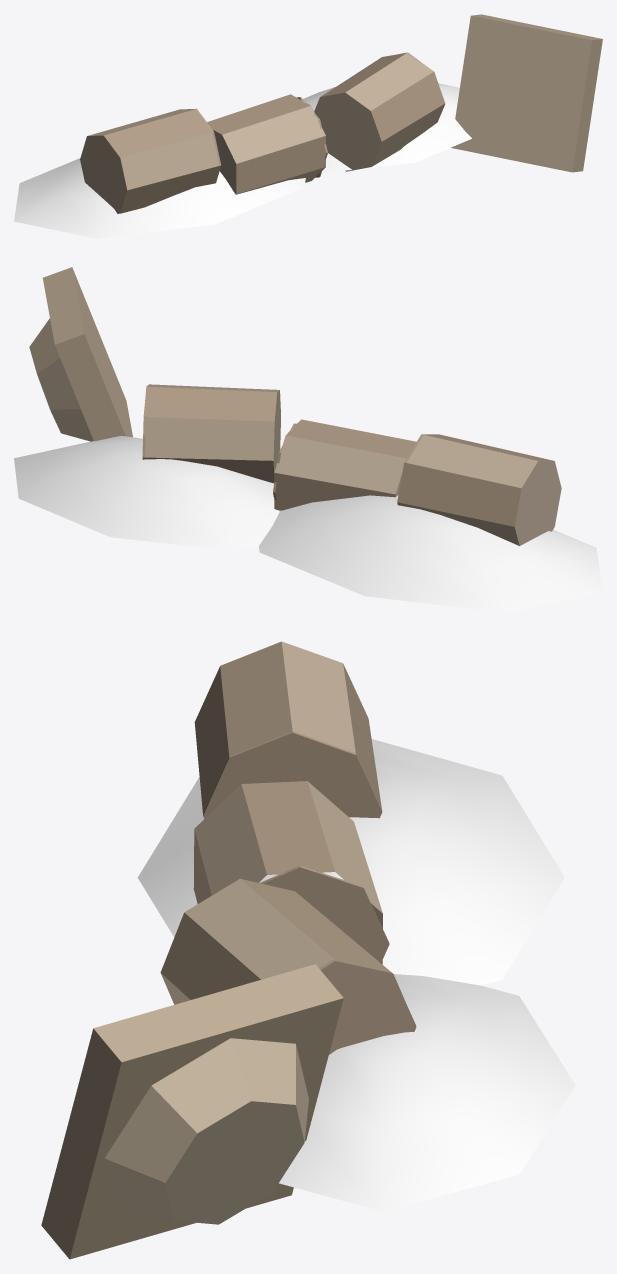
The model's file is ruinas_columna_c_ligero.glb.
3 views of the same model, one above another, from view 1: azimuth 30°, elevation 25°; view 2: azimuth 150°, elevation 25°; view 3: azimuth 270°, elevation 25° (orthographic). The views are drawn at different scales.
Visible parts, largest first — view 1: ruinas_columna_c, ruinas_columna_c_arena; view 2: ruinas_columna_c_arena, ruinas_columna_c; view 3: ruinas_columna_c, ruinas_columna_c_arena.
Boxes of the visible parts, <box> form: ruinas_columna_c: <box>80,14,602,213</box>; ruinas_columna_c_arena: <box>14,83,471,238</box>; ruinas_columna_c_arena: <box>14,435,602,612</box>; ruinas_columna_c: <box>29,267,561,545</box>; ruinas_columna_c: <box>41,641,416,1259</box>; ruinas_columna_c_arena: <box>137,739,575,1211</box>.
Size of the model in its own units: 5.74 by 1.27 by 2.5.
